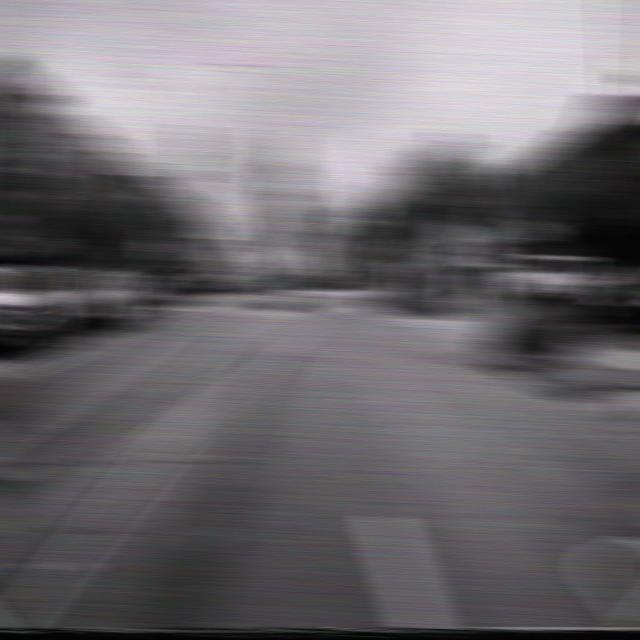pedestrianCrossing: (382, 233, 416, 265)
yield: (280, 218, 312, 239)
